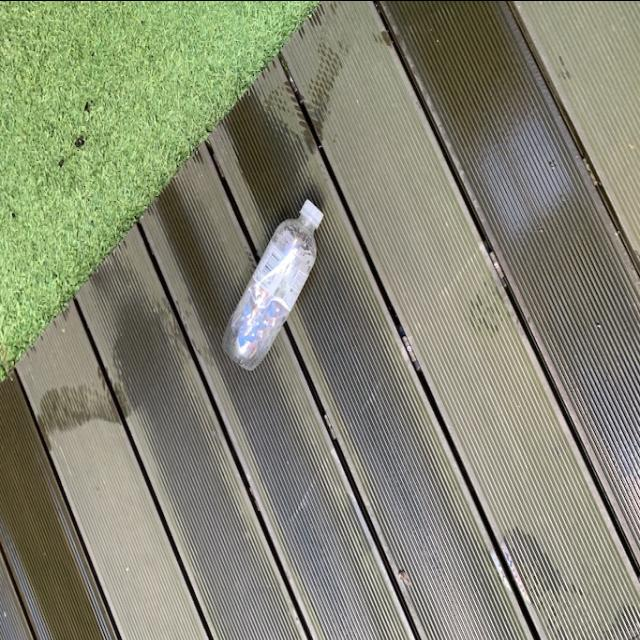litter: (222, 199, 324, 371)
